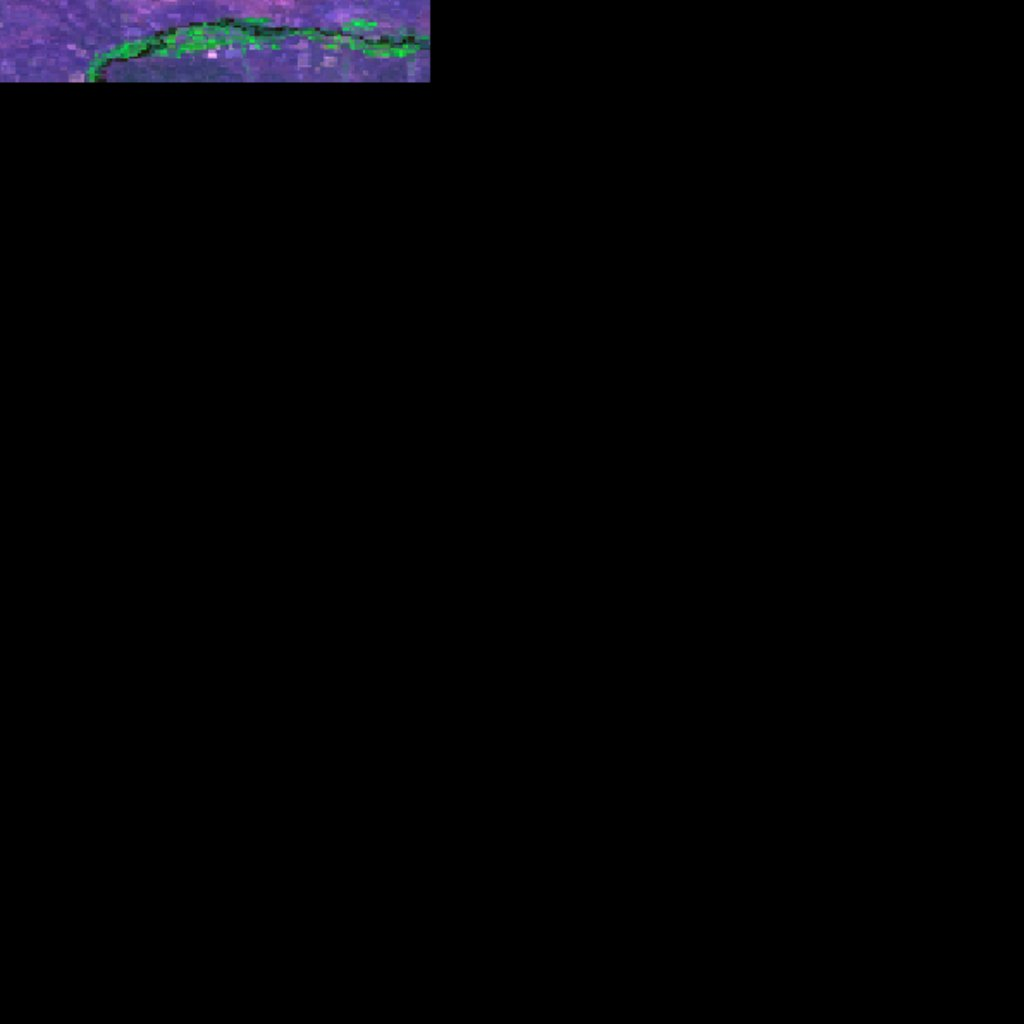fire: (0, 0, 431, 83)
